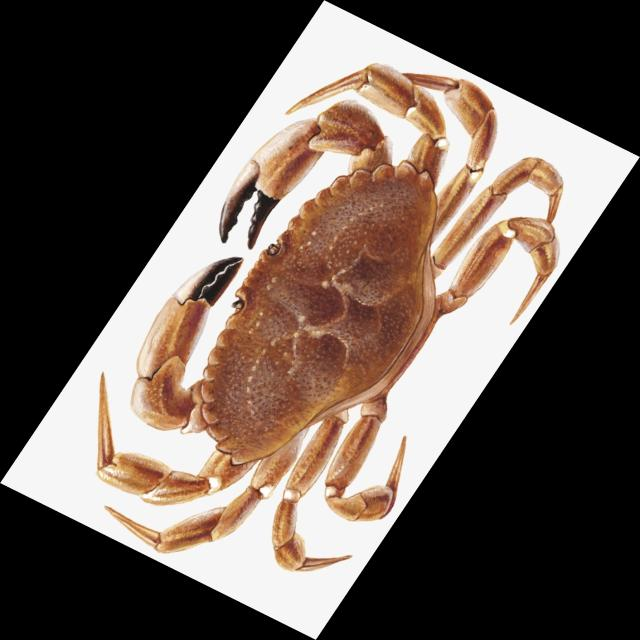Native Jonah crab: (98, 64, 563, 571)
